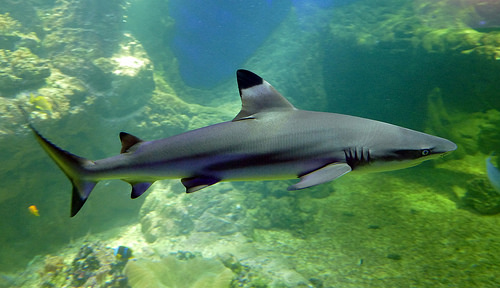shark: (11, 64, 470, 226)
